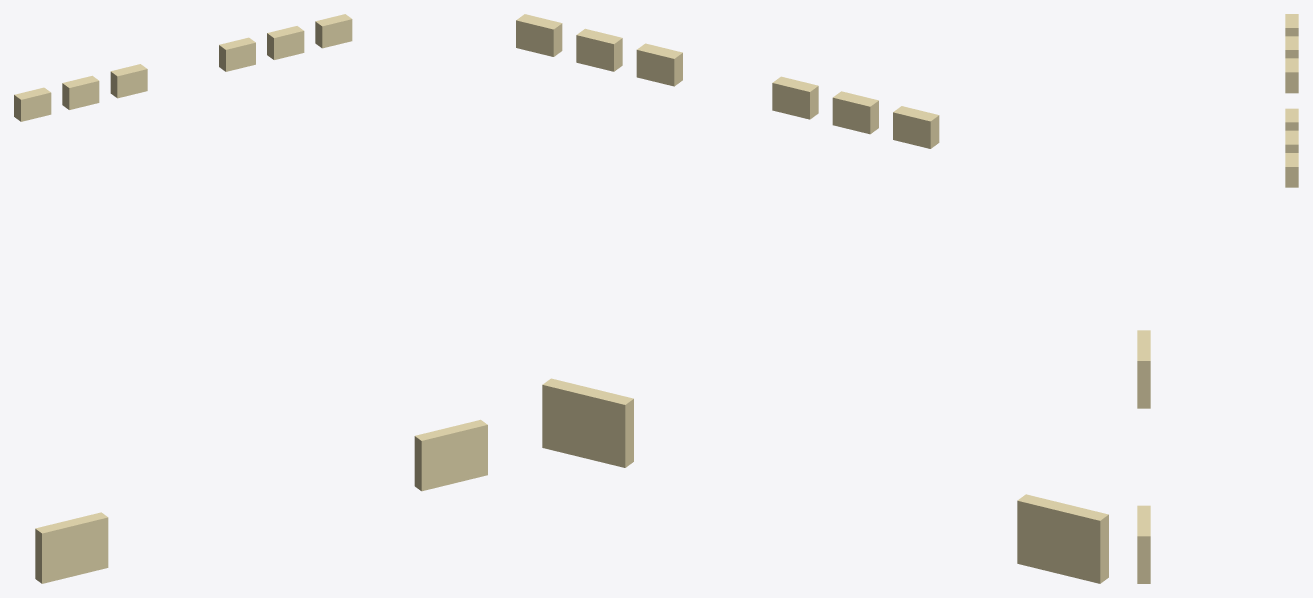
Rendered from van_lights.fbx.
3 views of the same model, side by side, from view 1: azimuth 30°, elevation 25°; view 2: azimuth 150°, elevation 25°; view 3: azimuth 270°, elevation 25° (orthographic). The views are drawn at different scales.
Visible parts, largest first — view 1: VanLights; view 2: VanLights; view 3: VanLights.
Boxes of the visible parts, x1=… form: VanLights: x1=14, y1=14, x2=487, y2=583; VanLights: x1=516, y1=14, x2=1108, y2=583; VanLights: x1=1137, y1=14, x2=1298, y2=583.
Size of the model in its own units: 1.48 by 1.31 by 0.49.
